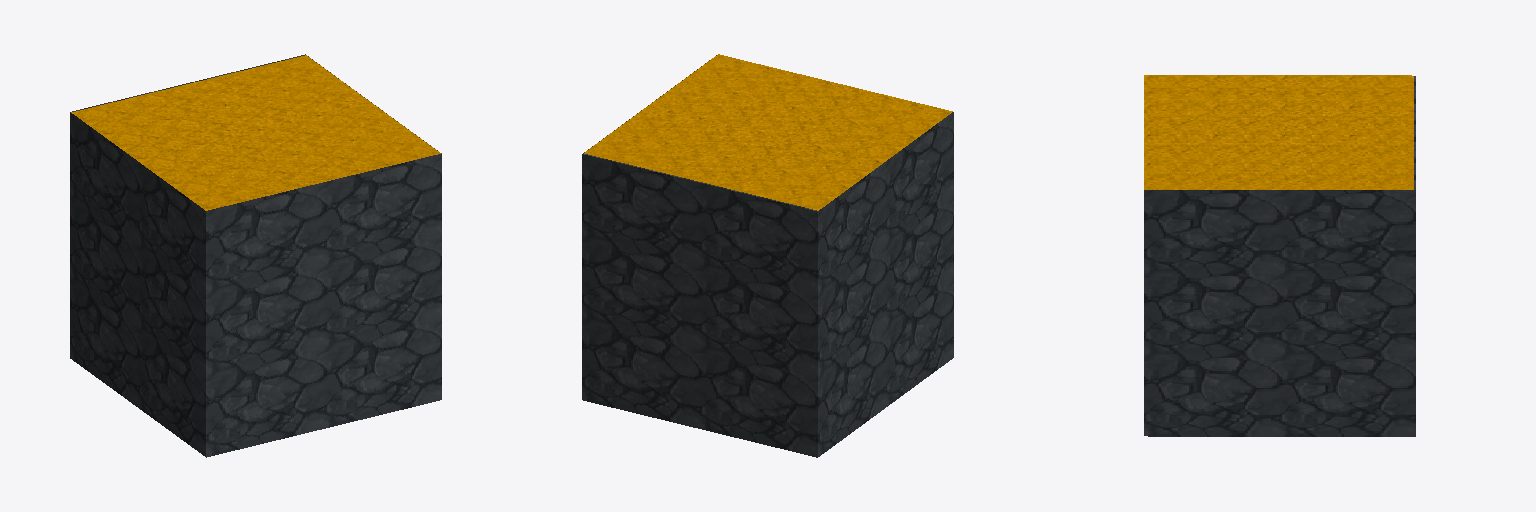
3 views of the same model, side by side, from view 1: azimuth 30°, elevation 25°; view 2: azimuth 150°, elevation 25°; view 3: azimuth 270°, elevation 25° (orthographic).
Parts seen in each view (by area): view 1: floor; view 2: floor; view 3: floor.
Boxes of the visible parts, x1=… form: floor: x1=70, y1=54, x2=441, y2=457; floor: x1=582, y1=54, x2=953, y2=457; floor: x1=1144, y1=75, x2=1415, y2=436.
Bounding box in the file's own units: 1 × 1 × 1.
Materials: 1 (1 with a texture image).